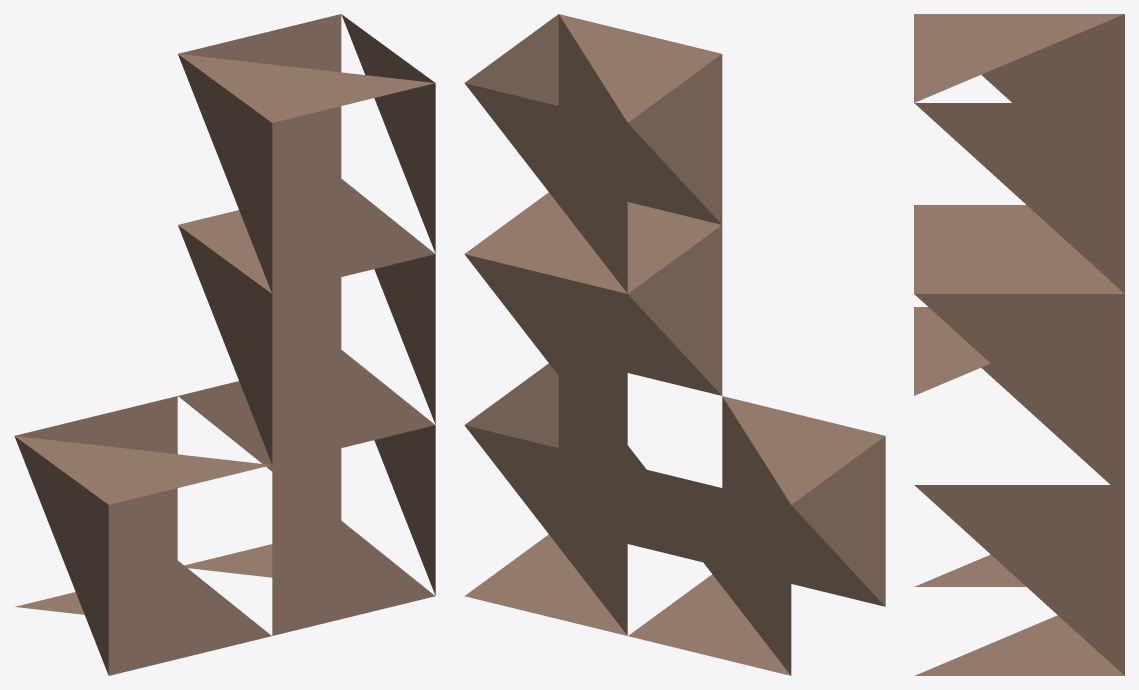
File: hierarchy-pivot.glb
The picture shows the model from 3 angles, left to right: view 1: azimuth 30°, elevation 25°; view 2: azimuth 150°, elevation 25°; view 3: azimuth 270°, elevation 25°; orthographic projection. The views are drawn at different scales.
Parts seen in each view (by area): view 1: Arm pivot offset, Hand; view 2: Arm pivot offset, Hand; view 3: Arm pivot offset, Hand.
Part boxes in pixels (x1,y1,x2,y2): Arm pivot offset: (14,225,435,675); Hand: (178,14,435,293); Arm pivot offset: (464,202,885,675); Hand: (464,14,722,293); Arm pivot offset: (914,205,1124,675); Hand: (914,14,1124,293).
Bounding box in the file's own units: 2 × 3 × 1.
